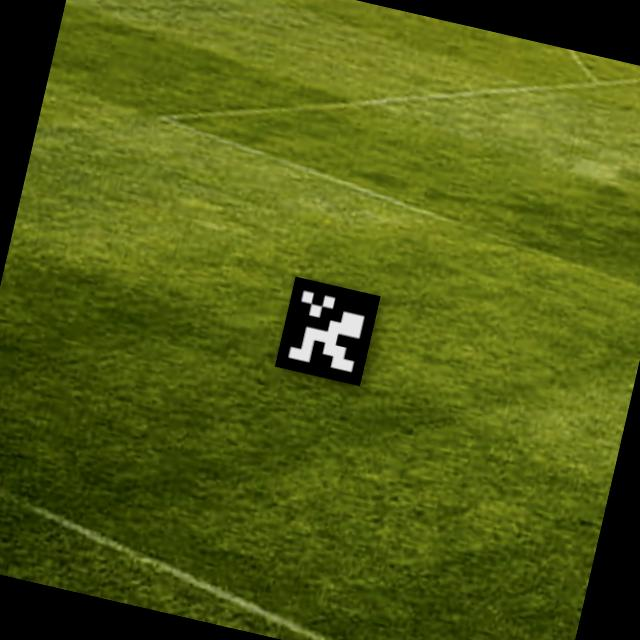marker: (261, 260, 398, 405)
